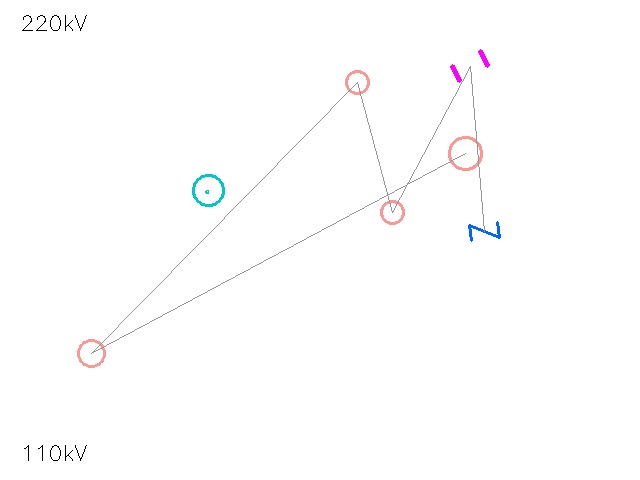capacitor: (444, 40, 496, 92)
circuit_breaker: (468, 215, 500, 247)
current_transformer: (432, 120, 498, 186)
feeder_terminal: (65, 327, 117, 379)
fuse: (334, 59, 380, 105)
generator: (193, 175, 223, 205)
reactor: (370, 190, 414, 234)
